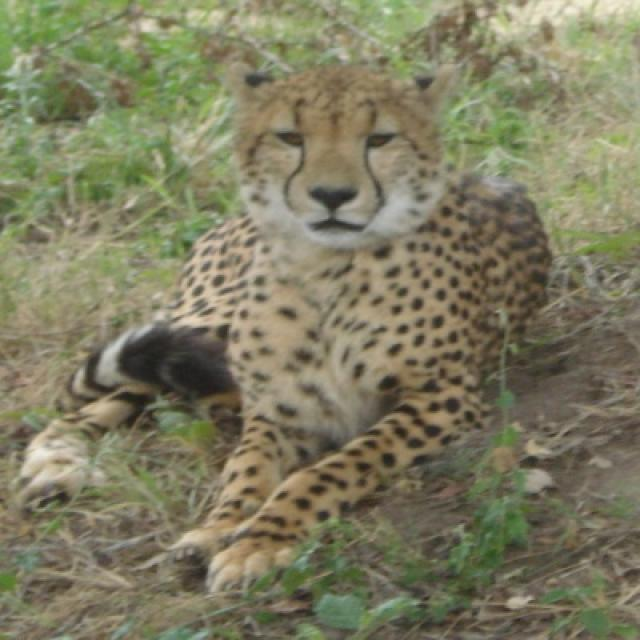Cheetah: (9, 59, 553, 593)
